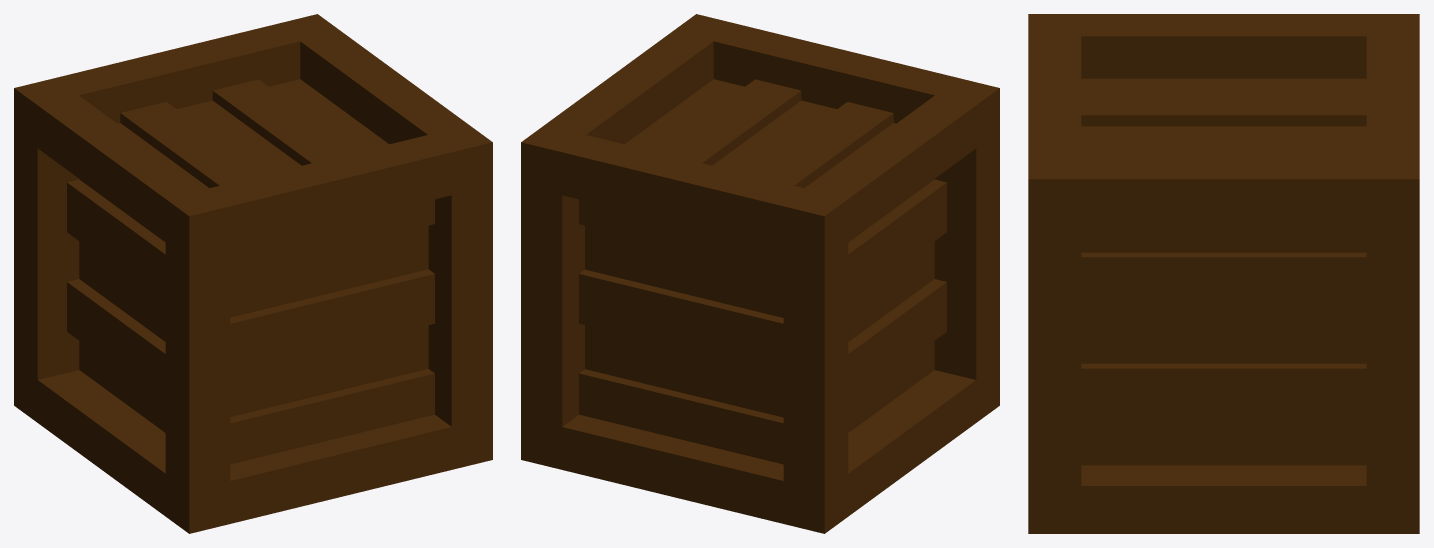
The picture shows the model from 3 angles, left to right: view 1: azimuth 30°, elevation 25°; view 2: azimuth 150°, elevation 25°; view 3: azimuth 270°, elevation 25°; orthographic projection. The views are drawn at different scales.
Parts seen in each view (by area): view 1: Box.001; view 2: Box.001; view 3: Box.001.
Part boxes in pixels (box(x1,y1,x2,y2)): Box.001: box(14, 14, 492, 533); Box.001: box(521, 14, 999, 533); Box.001: box(1028, 14, 1419, 533).
Bounding box in the file's own units: 2 × 2 × 2.
